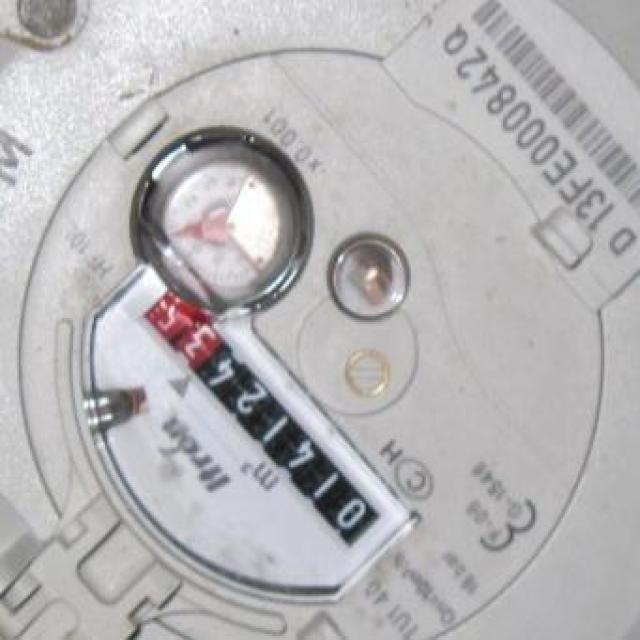gaz_meter: (23, 50, 604, 640)
indication: (139, 271, 387, 547)
